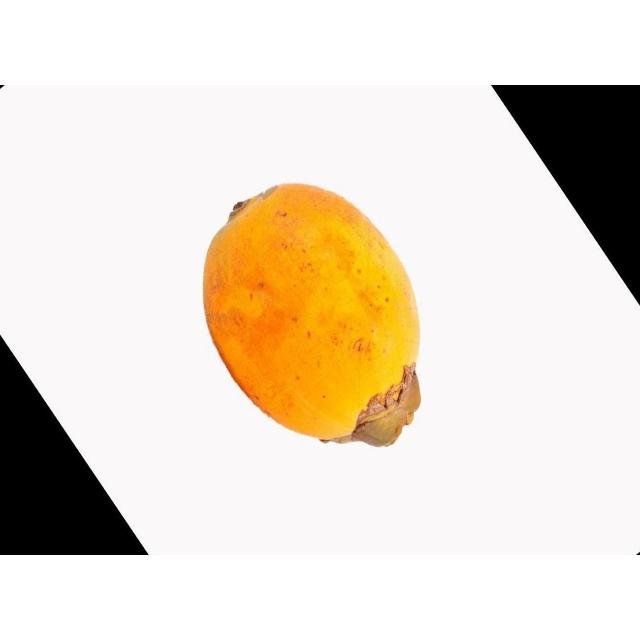good: (202, 183, 422, 449)
